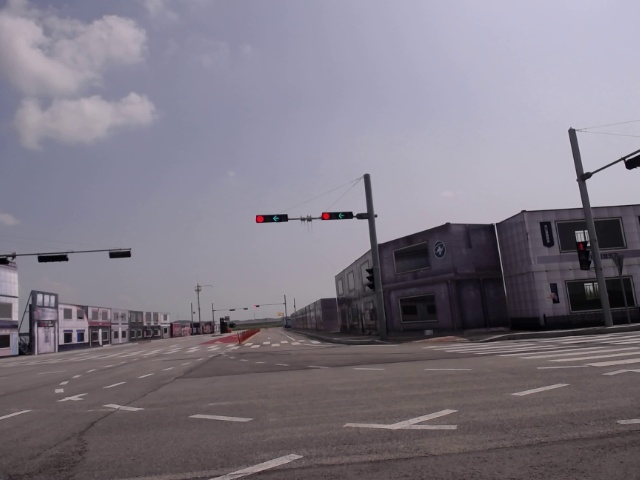left_green_4: (256, 215, 287, 223), (322, 212, 352, 220)
